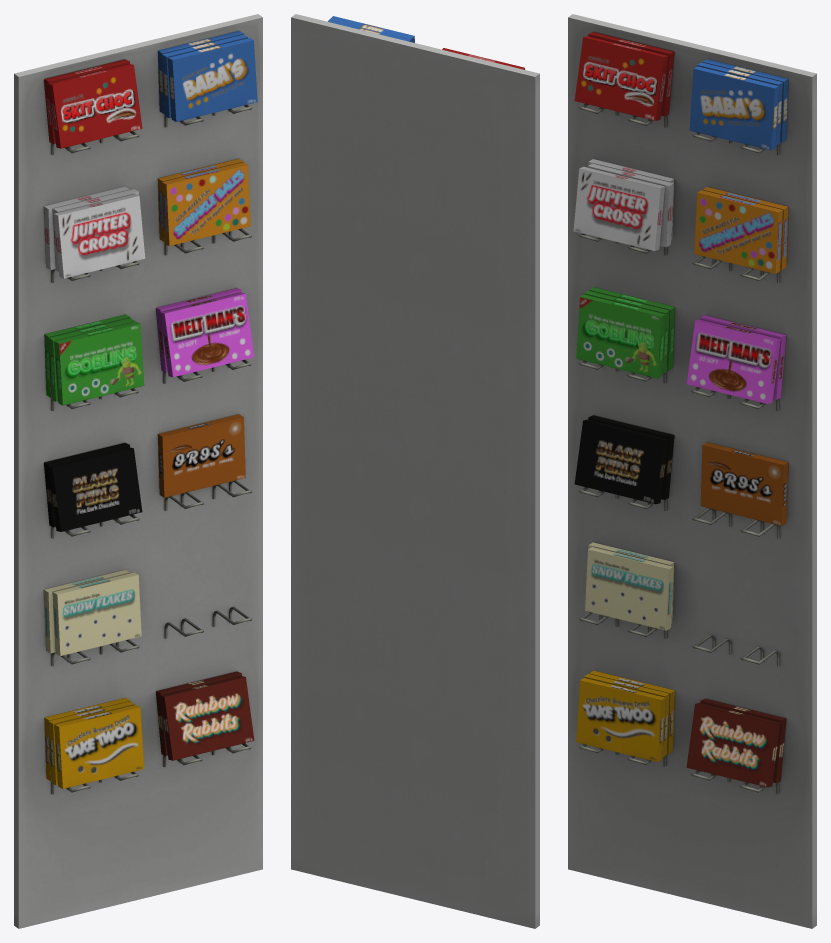
File: video_store_sweets.dae
3 views of the same model, side by side, from view 1: azimuth 30°, elevation 25°; view 2: azimuth 150°, elevation 25°; view 3: azimuth 330°, elevation 25° (orthographic).
Parts seen in each view (by area): view 1: Mesh1_Group2_Group1_Model; view 2: Mesh1_Group2_Group1_Model; view 3: Mesh1_Group2_Group1_Model.
Boxes of the visible parts, box(x1,y1,x2,y2) form: Mesh1_Group2_Group1_Model: box(14, 14, 262, 928); Mesh1_Group2_Group1_Model: box(291, 14, 539, 928); Mesh1_Group2_Group1_Model: box(568, 14, 816, 928).
Bounding box in the file's own units: 0.3 × 0.0629 × 1.
